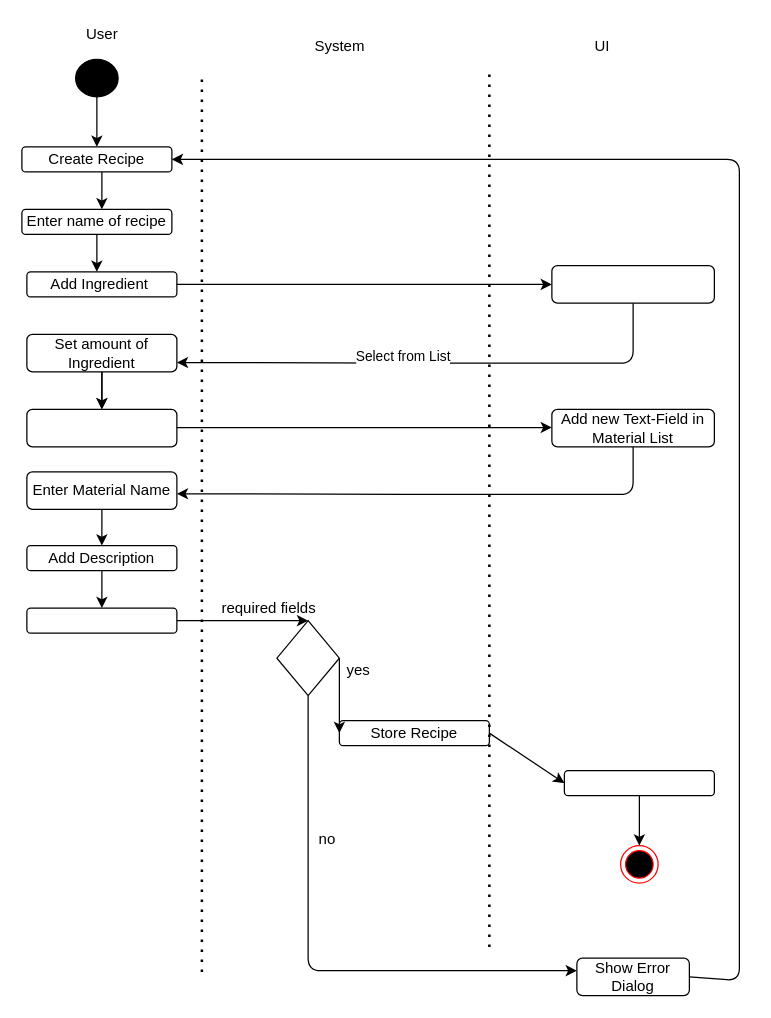
Some shapes in this 771 by 1018 pixel diagram are drawn without their labels. The centre of each missing label's shape, as x and y in pixels:
Click Add Material Button: (101,427)
Click Save Button: (101,620)
Show Dialog for Select Ingredient: (632,283)
Show Home Screen: (638,782)
